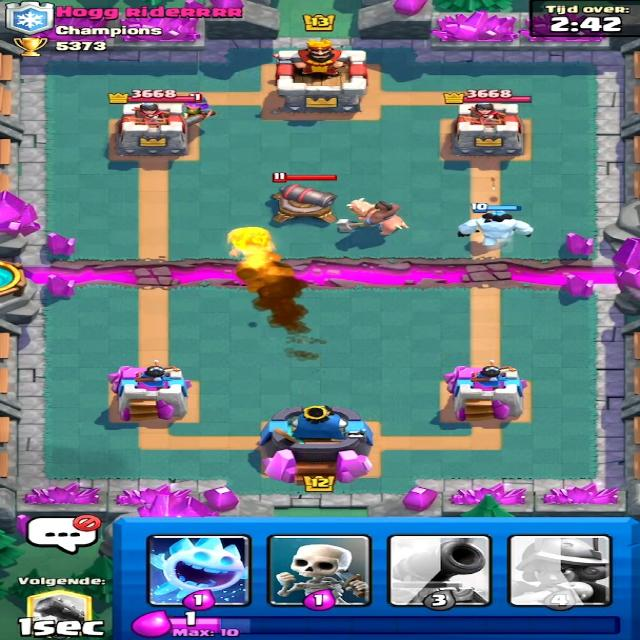Cannon_Card: (390, 534, 495, 607)
Enemy_Cannon_Troop: (264, 180, 348, 223)
Enemy_Musketeer_Troop: (167, 86, 225, 135)
Fireball_Troop: (218, 228, 288, 260)
Hog_Rider_Troop: (336, 197, 415, 240)
Ice_Golem_Troop: (456, 212, 536, 250)
Ice_Spirit_Card: (145, 535, 251, 604)
Musketeer_Card: (508, 528, 612, 606)
Skeleton_Card: (279, 532, 373, 610)
